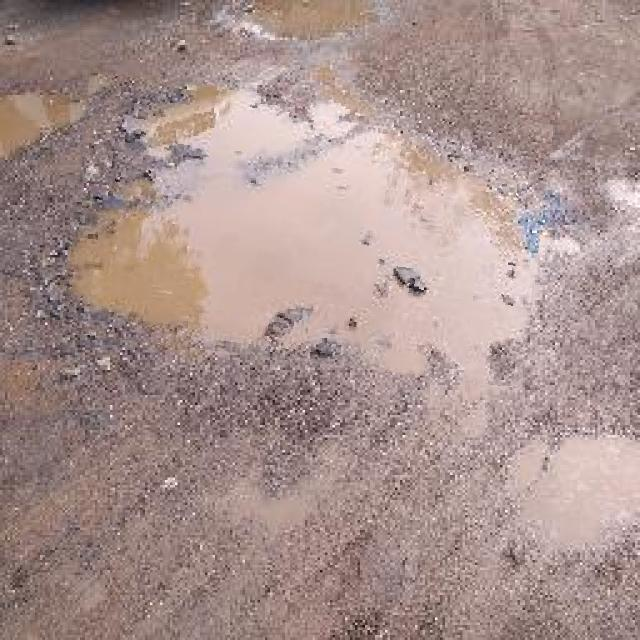puddle: (66, 82, 547, 376)
